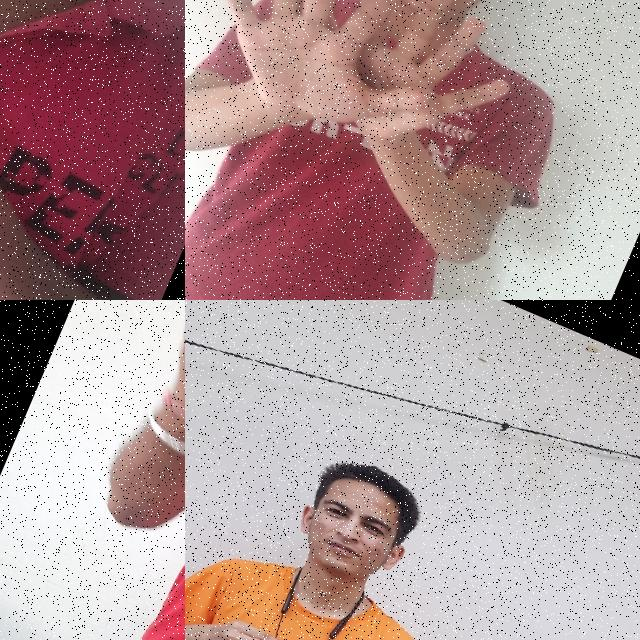Five Fathers: (185, 584, 410, 640)
Moutza: (267, 0, 543, 196), (185, 0, 478, 182)
Reversed Victory: (0, 0, 90, 289)
